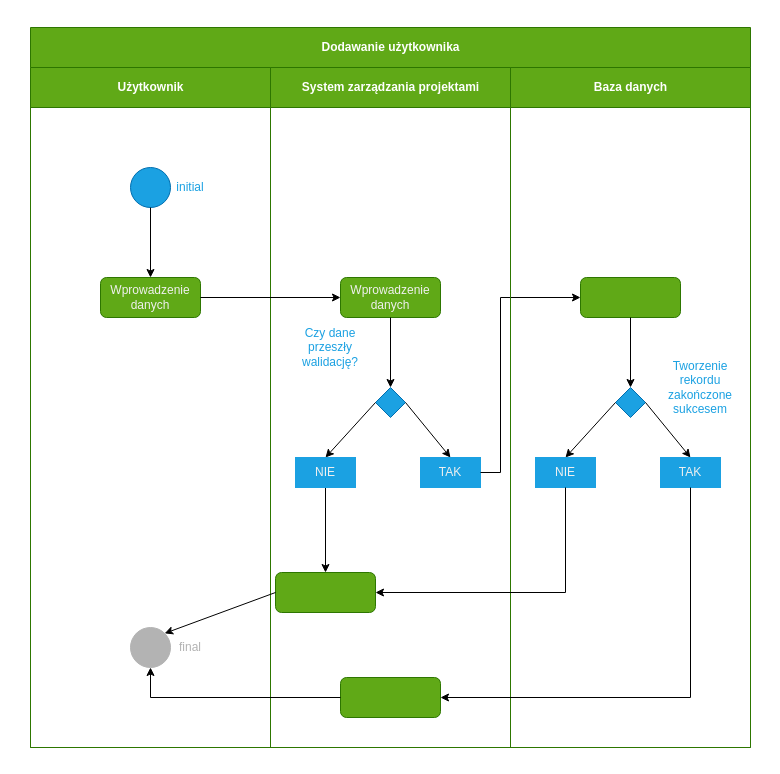
Some shapes in this 780 by 774 pixel diagram are drawn without their labels. Here are the shapes that lost their labels. From the top down, the centre of each, then its label:
At point (630, 297): "Dodanie rekordu".
At point (325, 592): "Komunikat błędu".
At point (390, 697): "Komunikat sukcesu".
